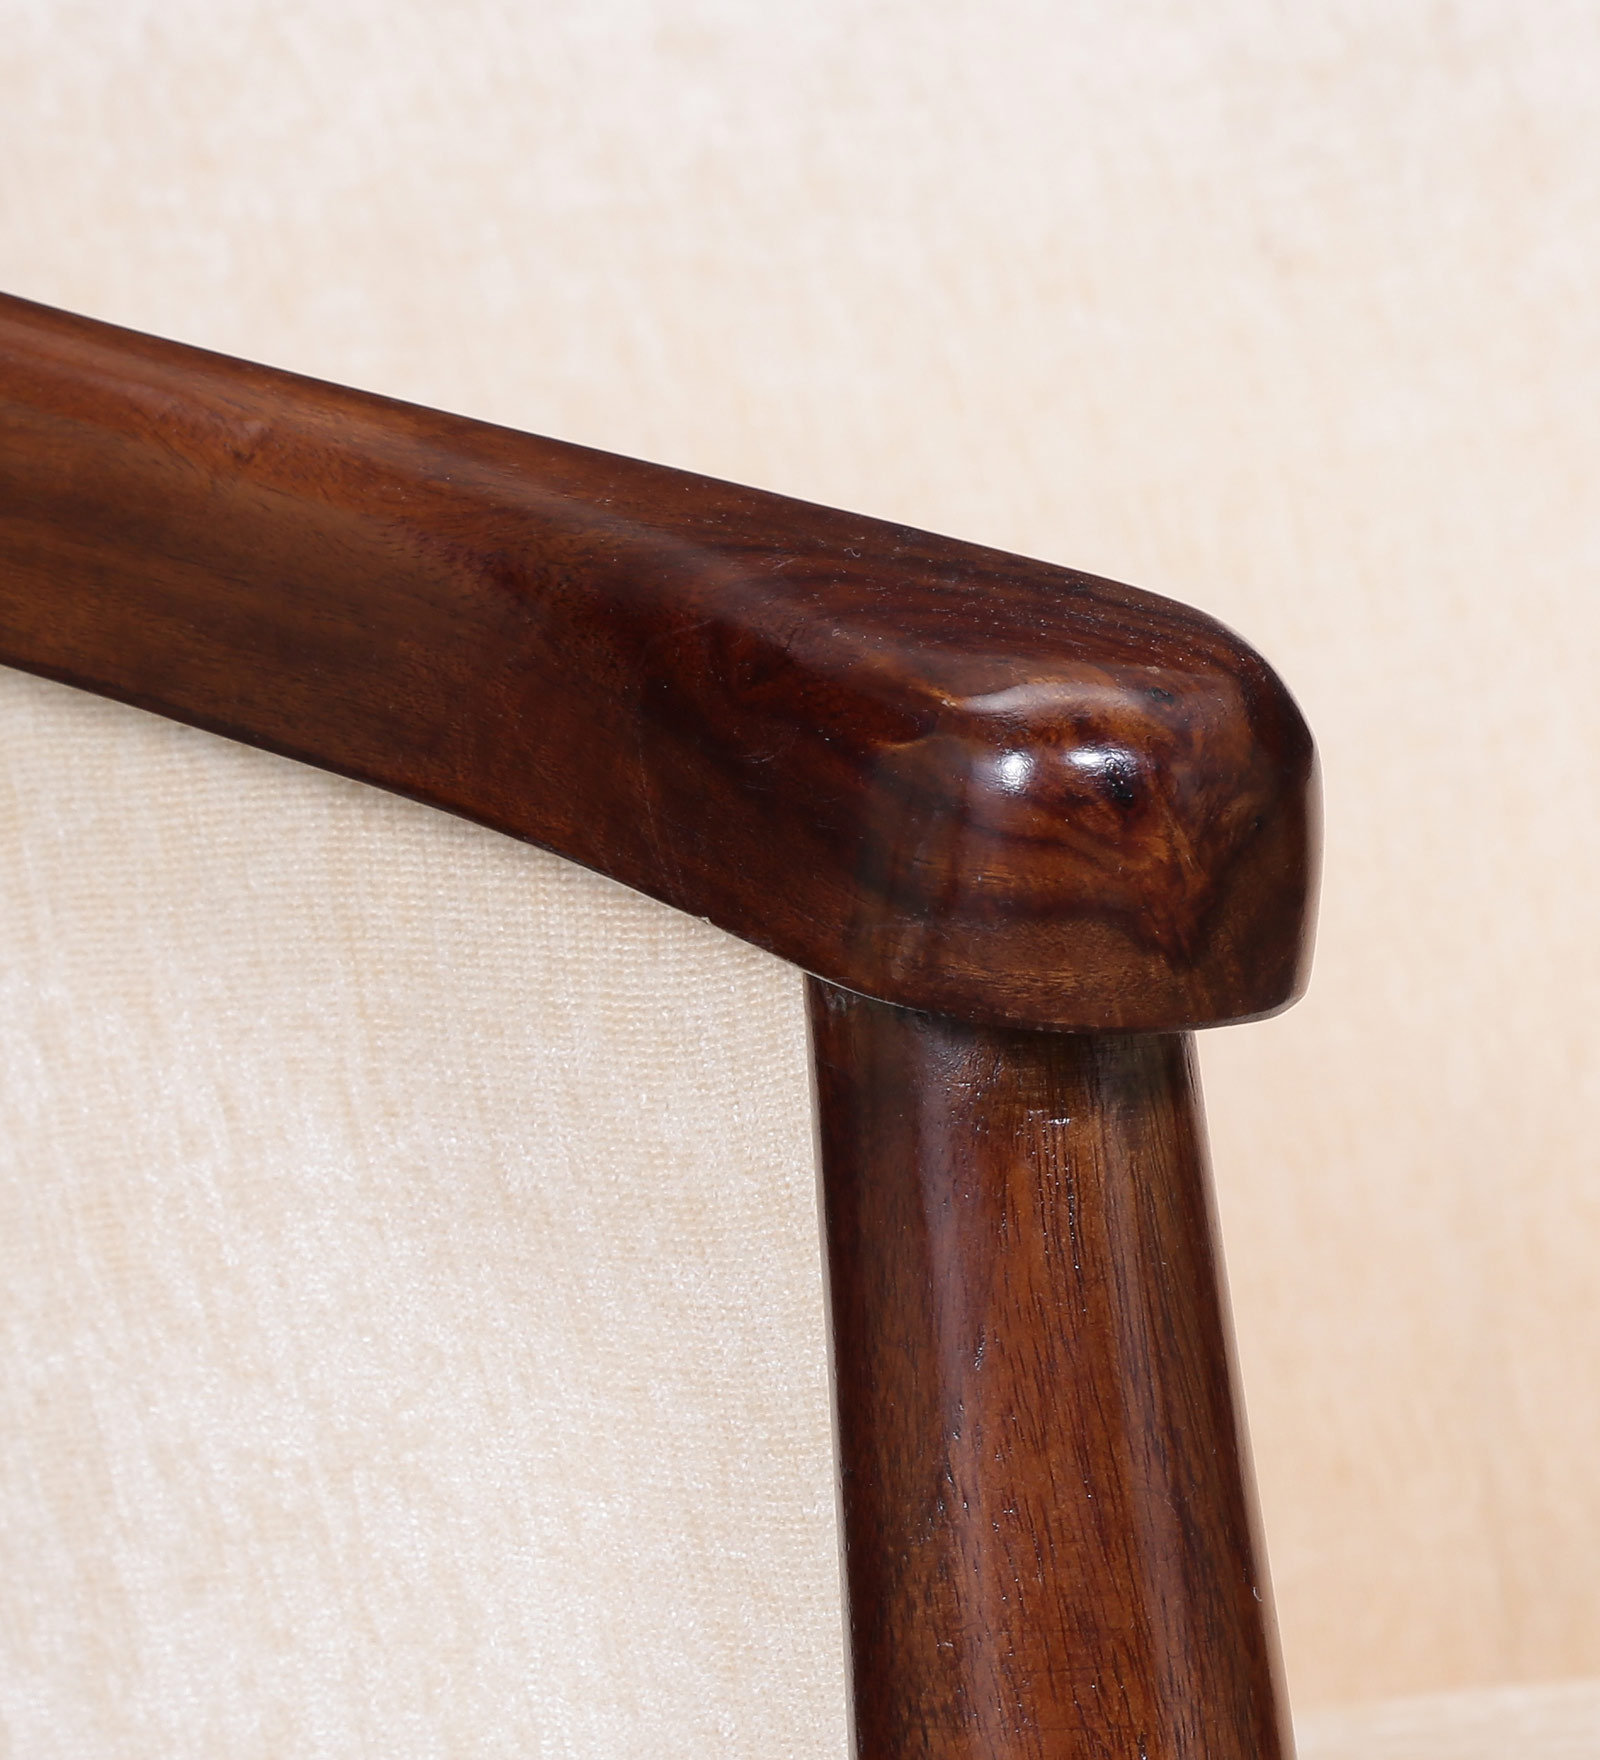Stalley Arm Chair in Cream Color with Honey Oak Finish by Amberville: (5, 209, 1431, 1760)
